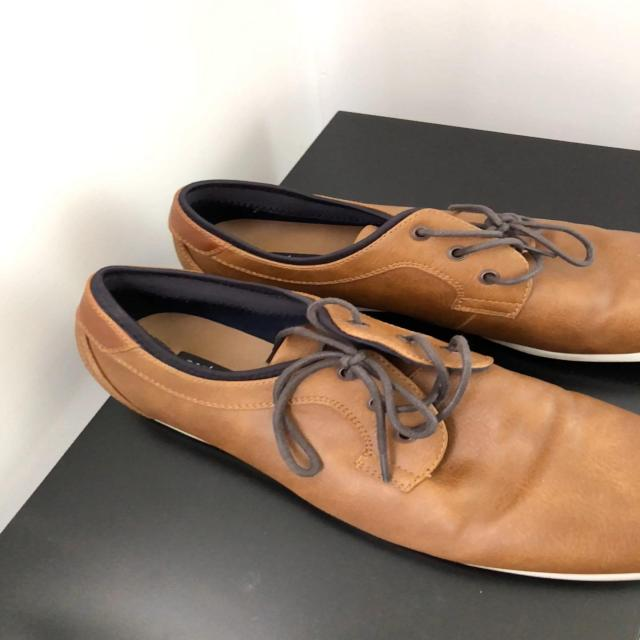shoe: (75, 266, 640, 579), (167, 181, 640, 353)
